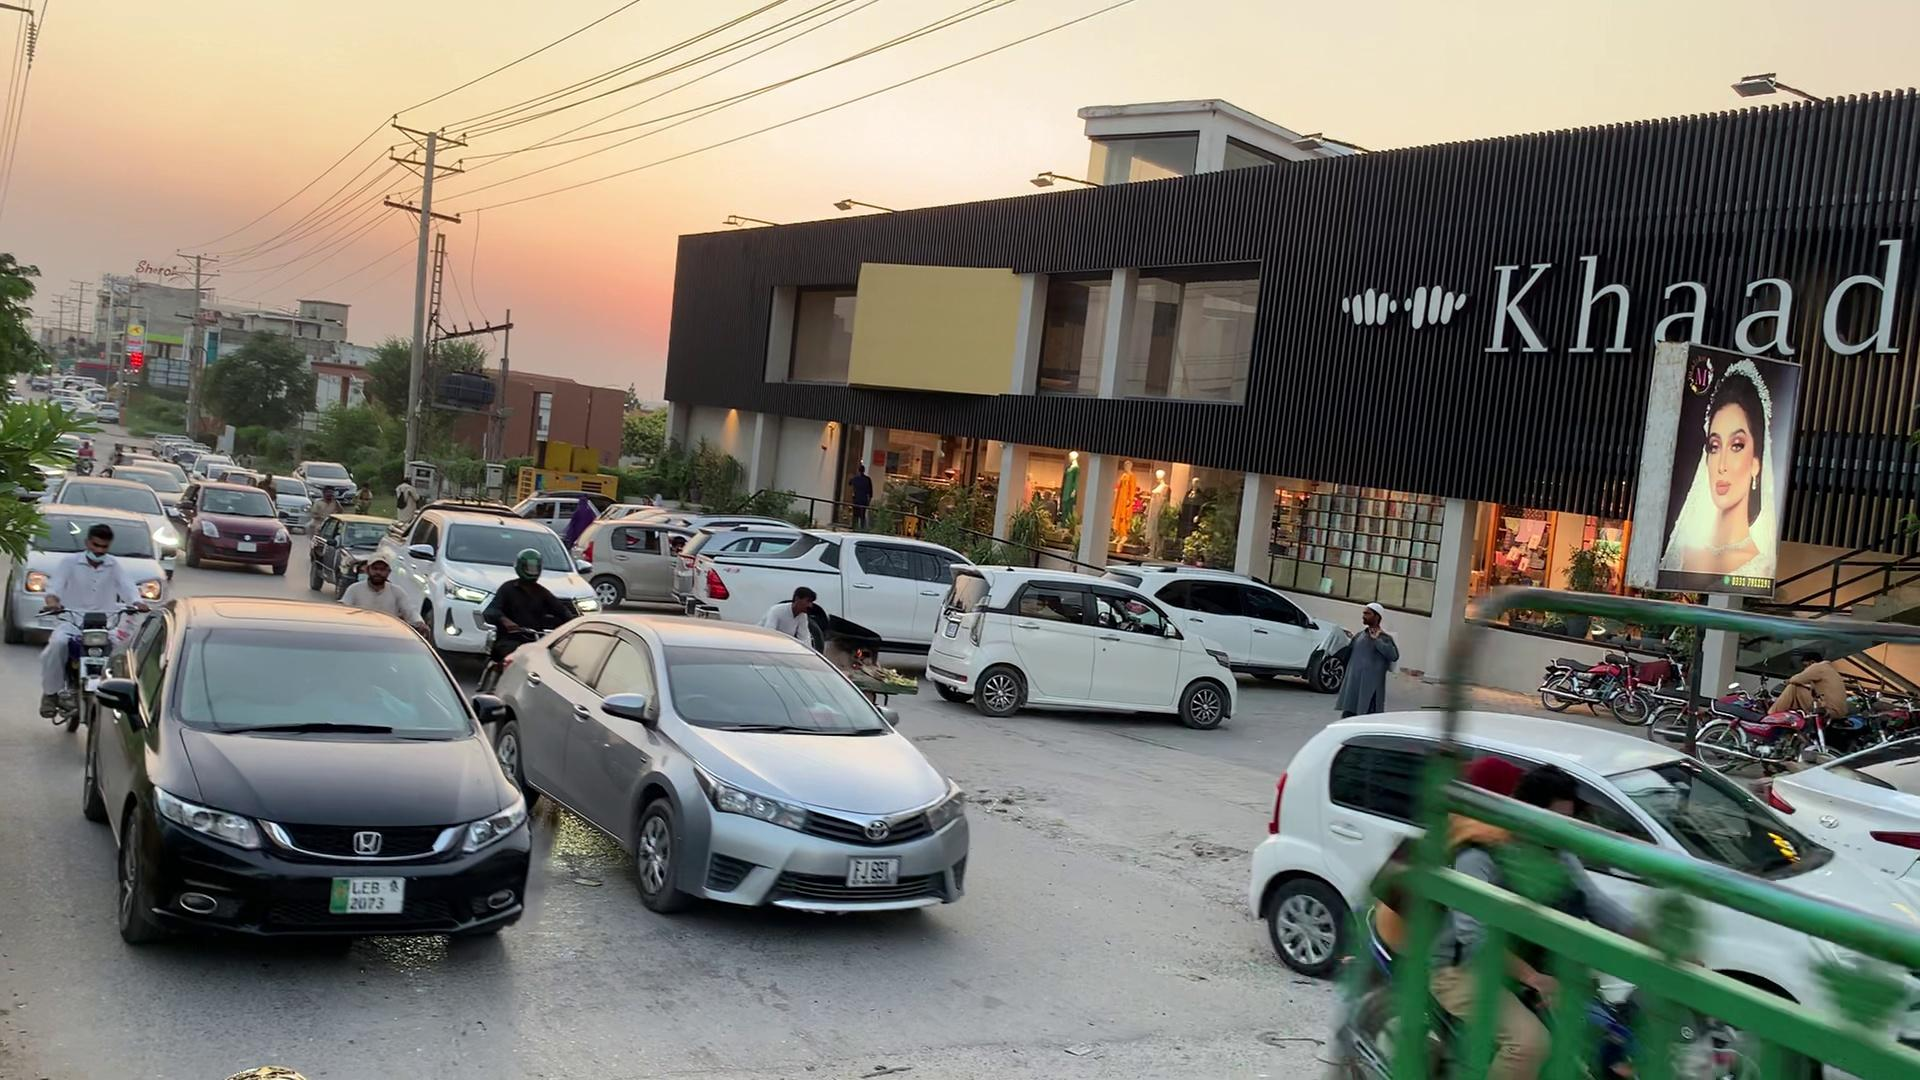windshield: (166, 626, 484, 746), (662, 640, 899, 735)
